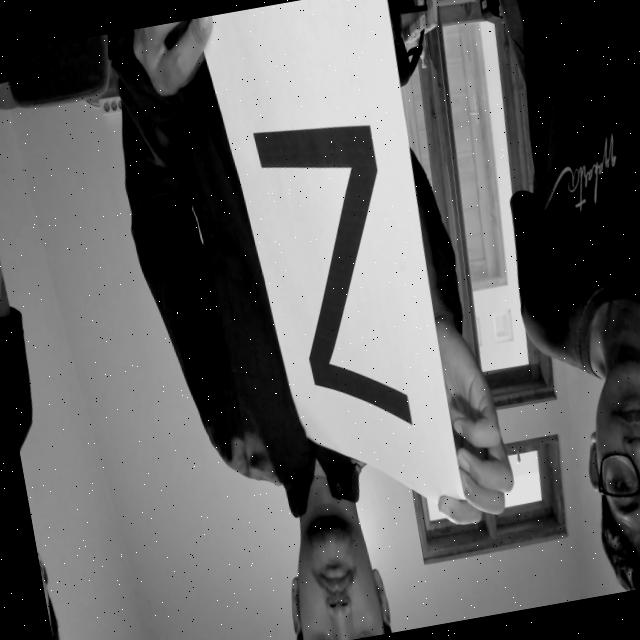z: (237, 63, 442, 458)
